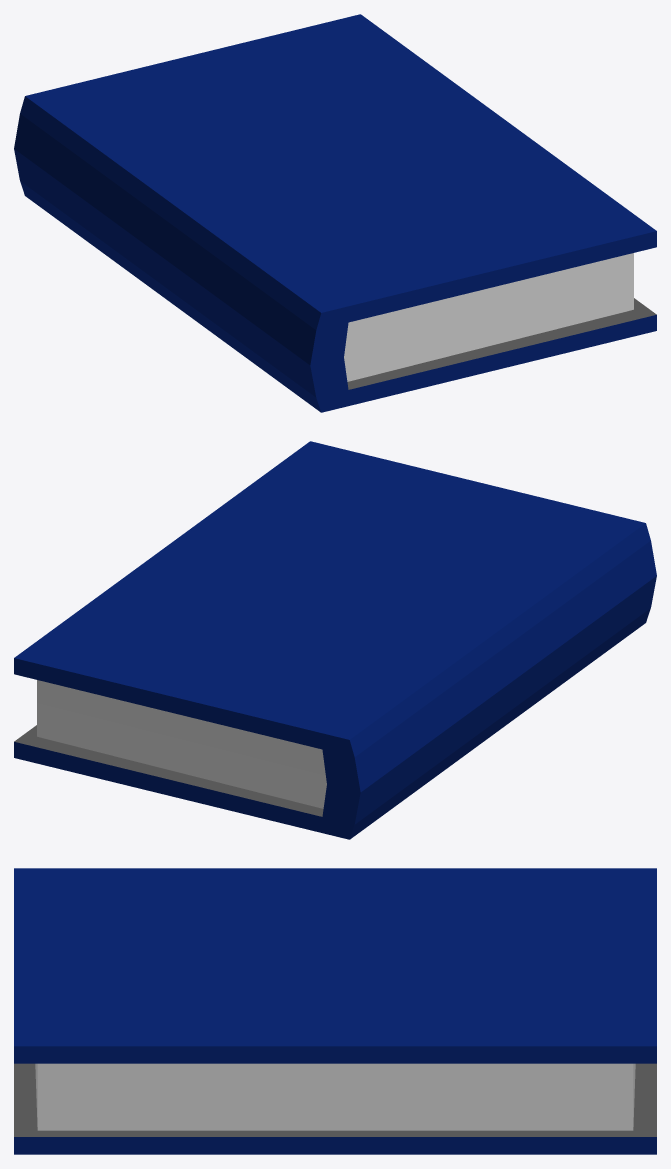
Rendered from book.fbx.
3 views of the same model, one above another, from view 1: azimuth 30°, elevation 25°; view 2: azimuth 150°, elevation 25°; view 3: azimuth 270°, elevation 25° (orthographic). The views are drawn at different scales.
Parts seen in each view (by area): view 1: Cube; view 2: Cube; view 3: Cube.
Part boxes in pixels (x1,y1,x2,y2): Cube: (14, 14, 656, 412); Cube: (14, 441, 656, 839); Cube: (14, 868, 656, 1154).
Bounding box in the file's own units: 211 × 58.13 × 313.
